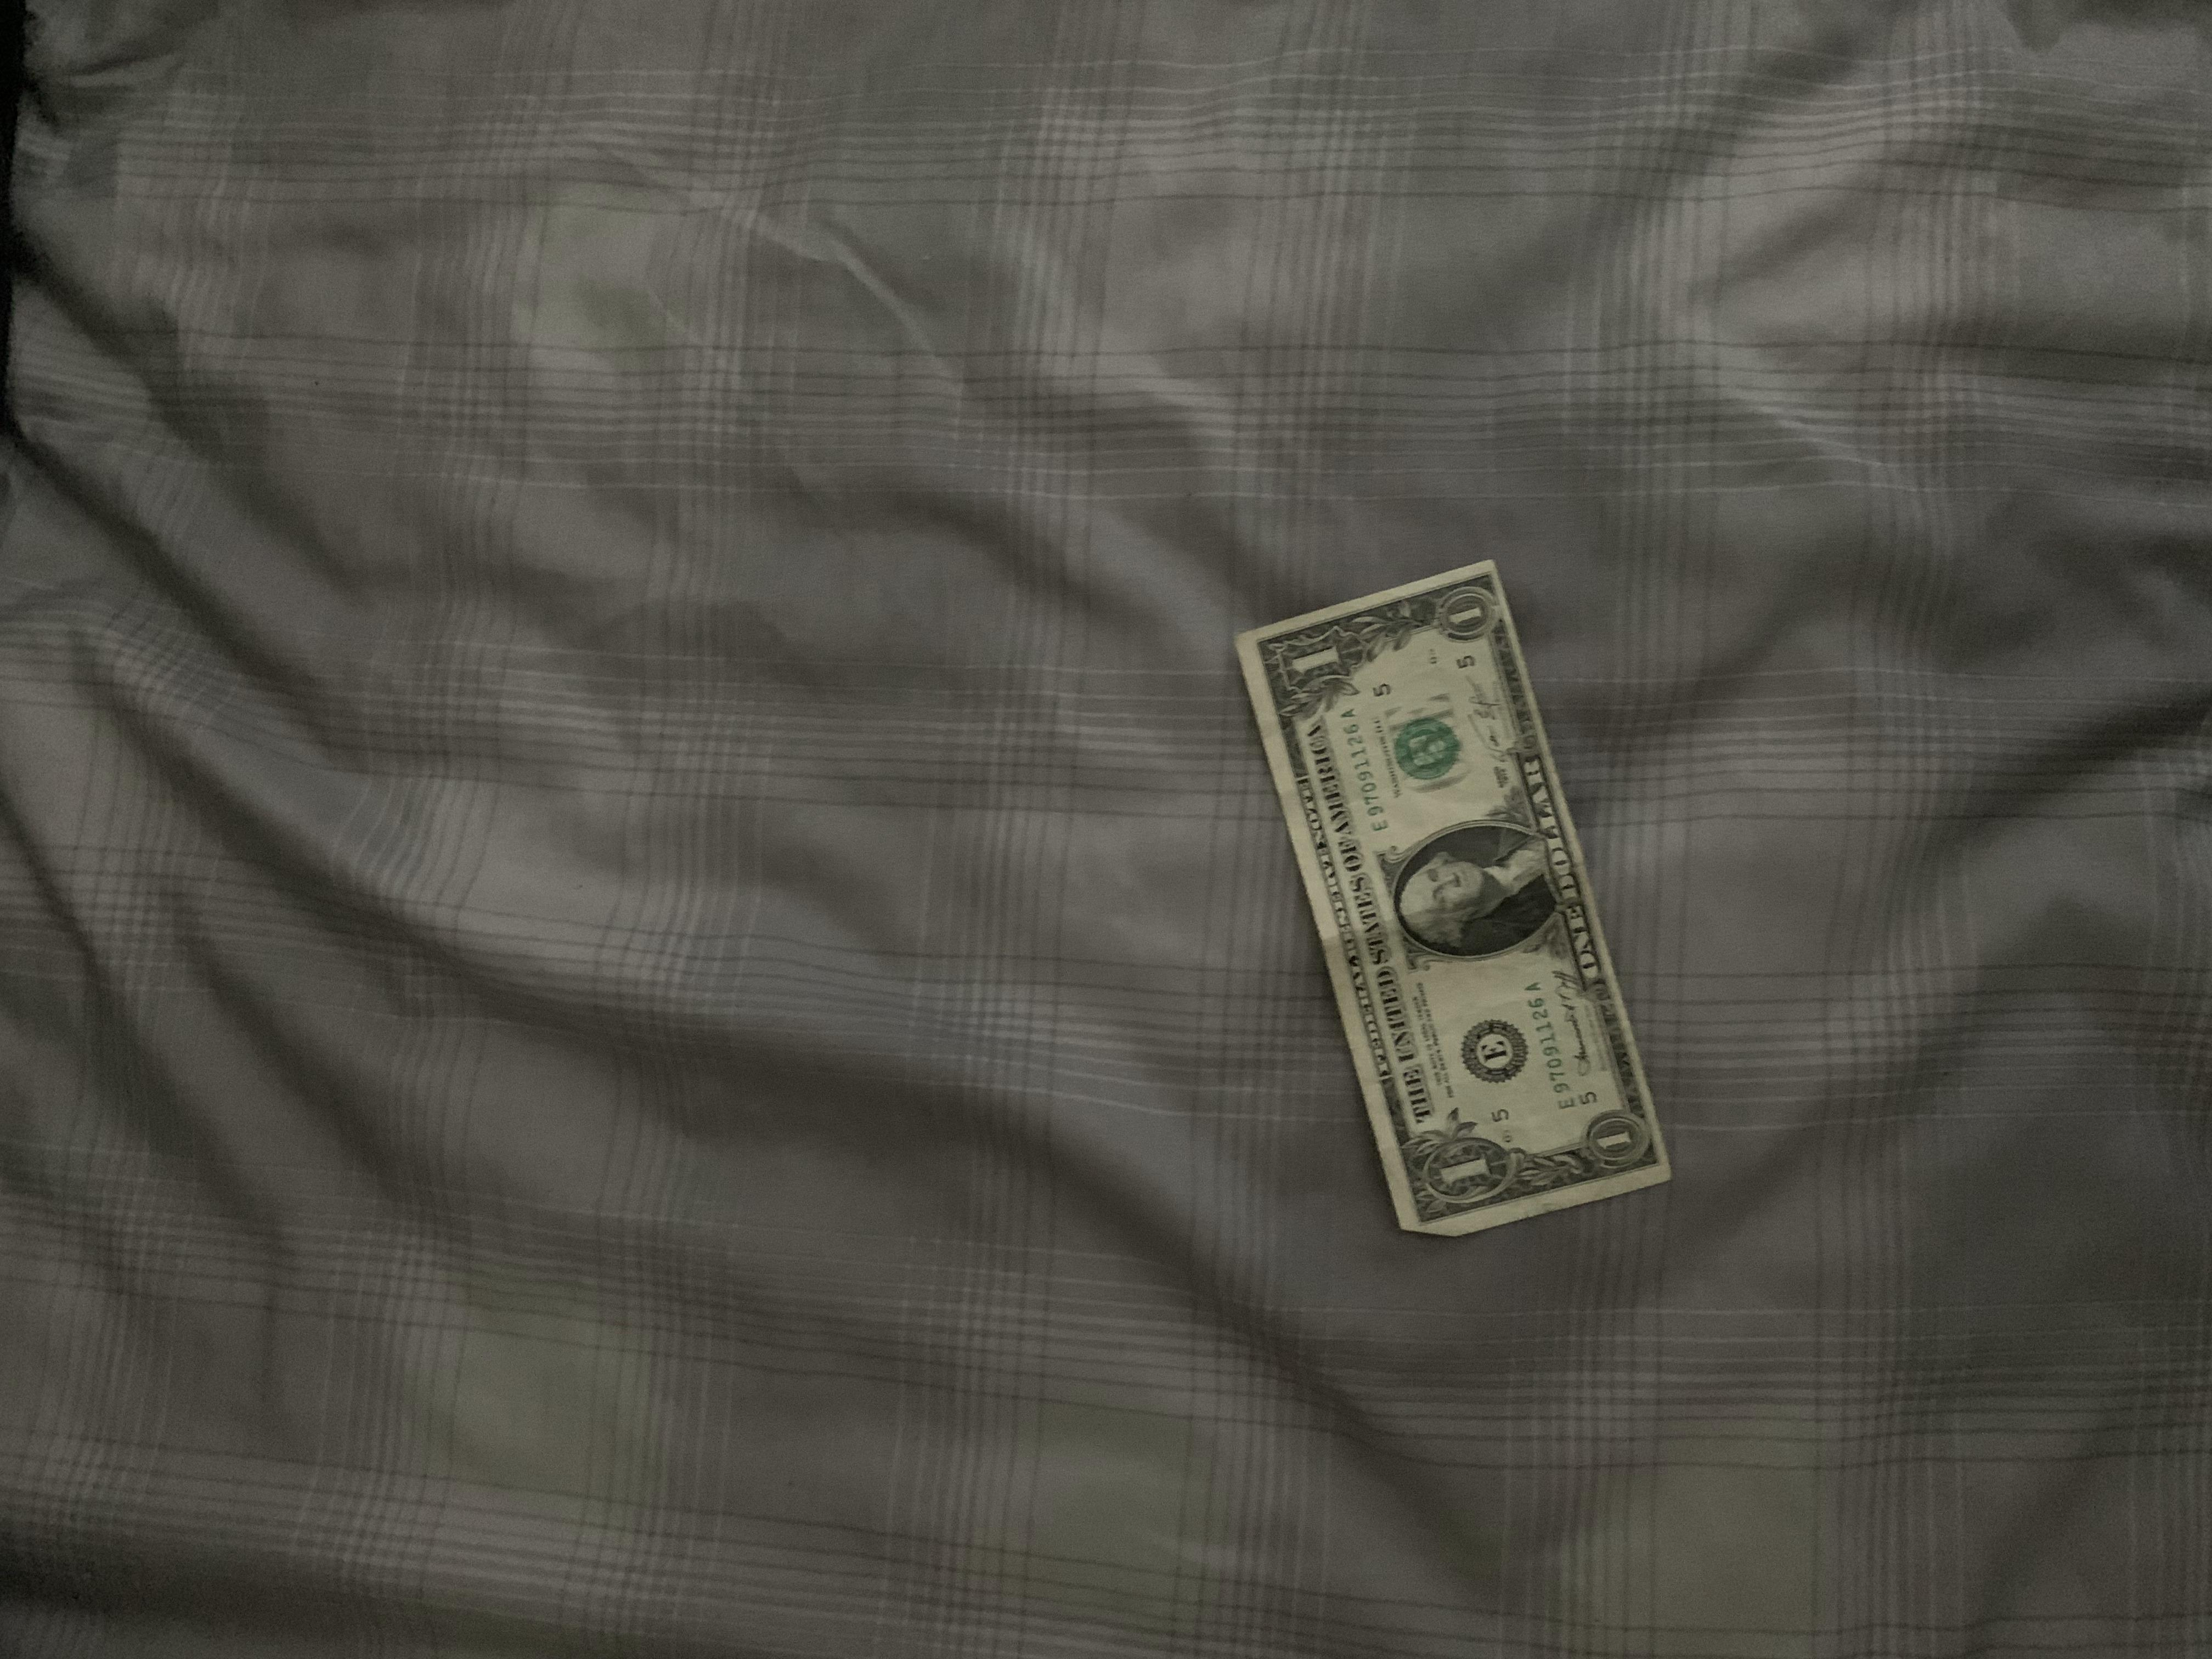OneBill: (1231, 549, 1679, 1241)
